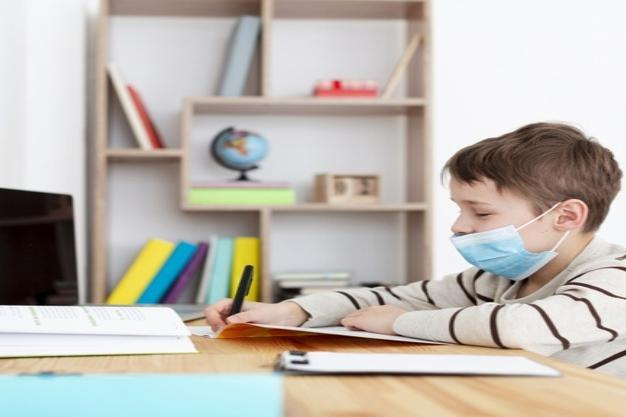mask_weared_incorrect: (443, 119, 618, 283)
